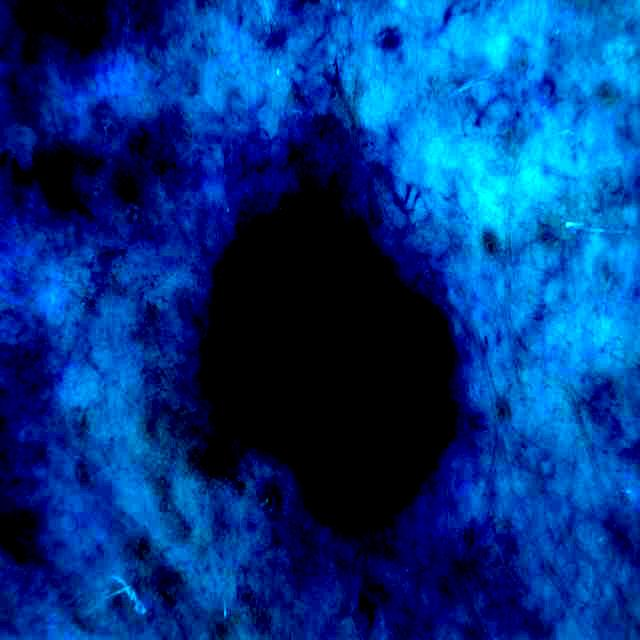BKL: (206, 210, 452, 518)
